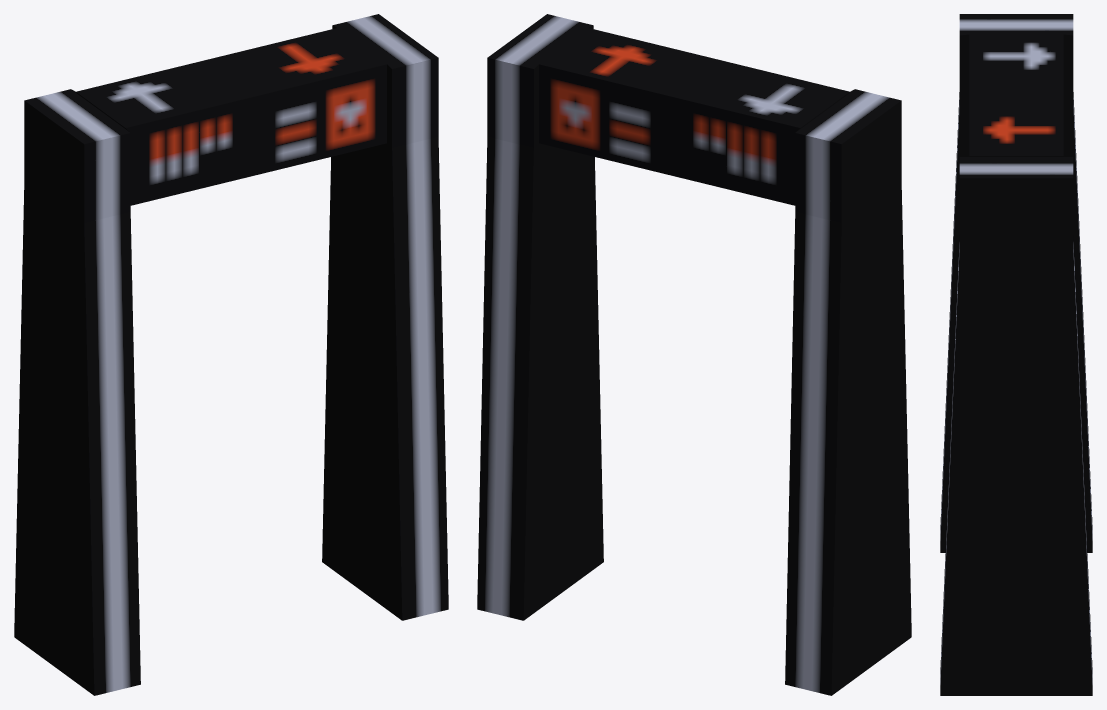
File: frame.fbx
3 renders of one model, left to right at view 1: azimuth 30°, elevation 25°; view 2: azimuth 150°, elevation 25°; view 3: azimuth 270°, elevation 25°, orthographic. The views are drawn at different scales.
Visible parts, largest first — view 1: Куб.261; view 2: Куб.261; view 3: Куб.261.
Boxes of the visible parts, x1,y1,x2,y2 form: Куб.261: (14, 14, 448, 695); Куб.261: (477, 14, 911, 695); Куб.261: (940, 14, 1092, 695).
Bounding box in the file's own units: 182 × 268 × 71.52.
